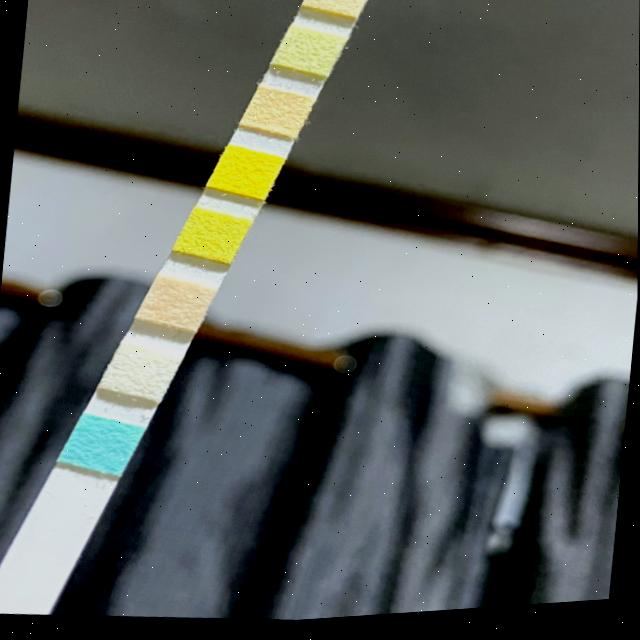Bilirubin: (109, 353, 169, 395)
Blood: (219, 152, 273, 196)
Glucose: (72, 419, 130, 469)
Ketone: (149, 281, 206, 327)
Protein: (280, 34, 334, 73)
SpGravity: (183, 218, 239, 256)
Urobilinogen: (311, 0, 360, 15)
pH: (251, 93, 303, 134)
